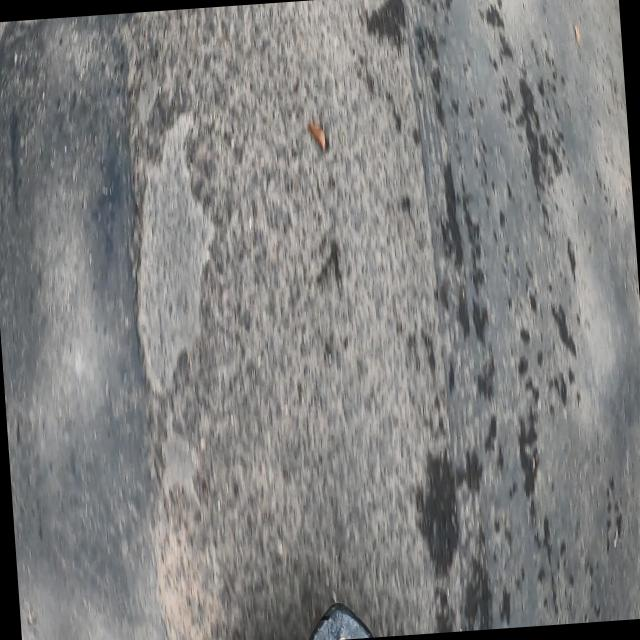Lubang: (138, 113, 211, 392), (161, 431, 198, 493)
